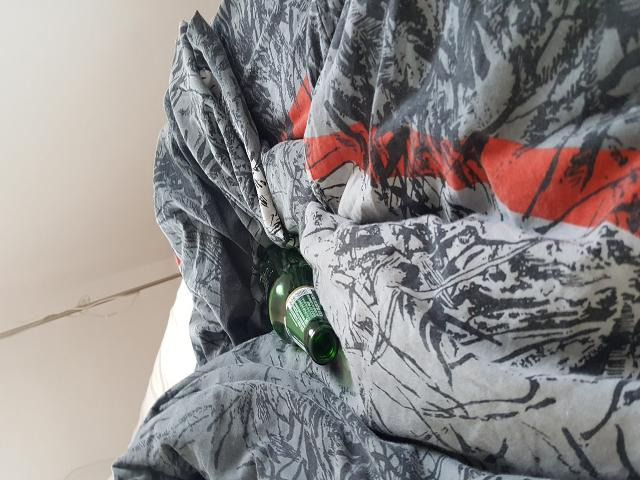beer: (258, 242, 339, 366)
